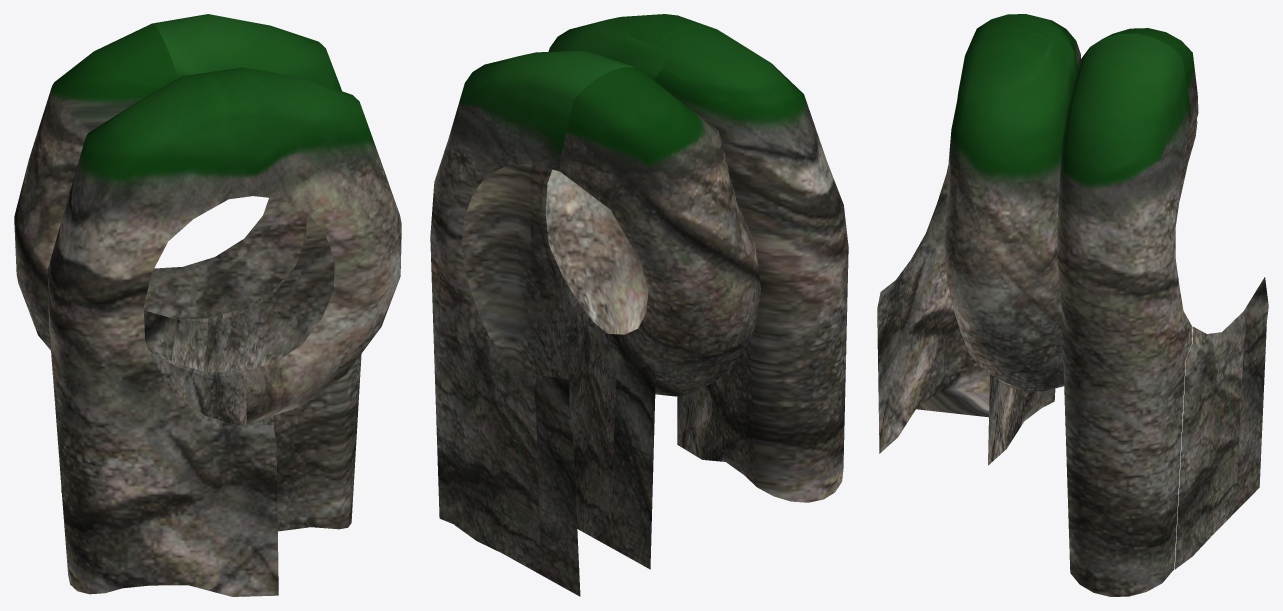
File: mountains 3.fbx
The picture shows the model from 3 angles, left to right: view 1: azimuth 30°, elevation 25°; view 2: azimuth 150°, elevation 25°; view 3: azimuth 270°, elevation 25°; orthographic projection. The views are drawn at different scales.
Parts seen in each view (by area): view 1: pTorus5; view 2: pTorus5; view 3: pTorus5.
Part boxes in pixels (left/top/right/bottom): pTorus5: left=14, top=14, right=401, bottom=596; pTorus5: left=430, top=14, right=848, bottom=596; pTorus5: left=877, top=14, right=1268, bottom=596.
Size of the model in its own units: 9.61 by 13.02 by 9.56.
